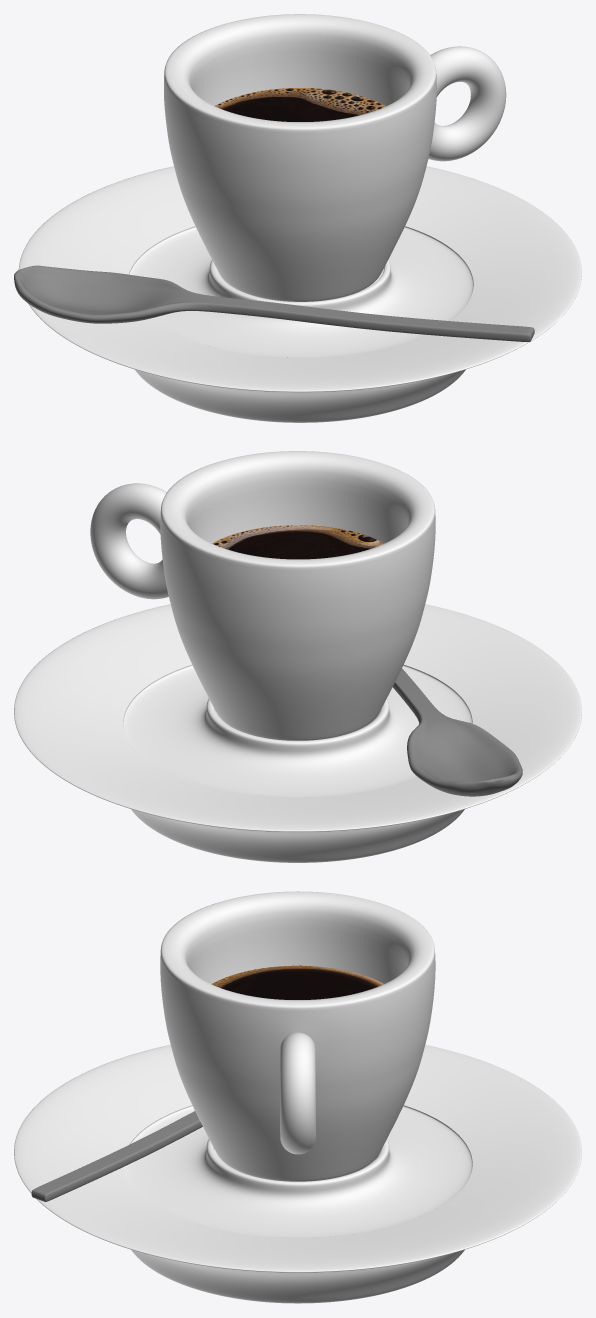
3 renders of one model, top to bottom at view 1: azimuth 30°, elevation 25°; view 2: azimuth 150°, elevation 25°; view 3: azimuth 270°, elevation 25°, orthographic.
Visible parts, largest first — view 1: plate, coffee-mug, Plane, coffee; view 2: plate, coffee-mug, Plane, coffee; view 3: plate, coffee-mug, coffee, Plane.
Boxes of the visible parts, x1,y1,x2,y2 form: plate: (18, 166, 581, 422); coffee-mug: (164, 14, 506, 301); Plane: (14, 265, 534, 341); coffee: (215, 88, 385, 121); plate: (14, 604, 581, 862); coffee-mug: (90, 451, 435, 740); Plane: (393, 668, 522, 796); coffee: (212, 525, 383, 559); plate: (14, 1044, 581, 1303); coffee-mug: (160, 891, 435, 1181); coffee: (211, 965, 383, 999); Plane: (31, 1111, 202, 1201).
Bounding box in the file's own units: 0.2397 × 0.131 × 0.2376.
4 materials, 3 textured.
